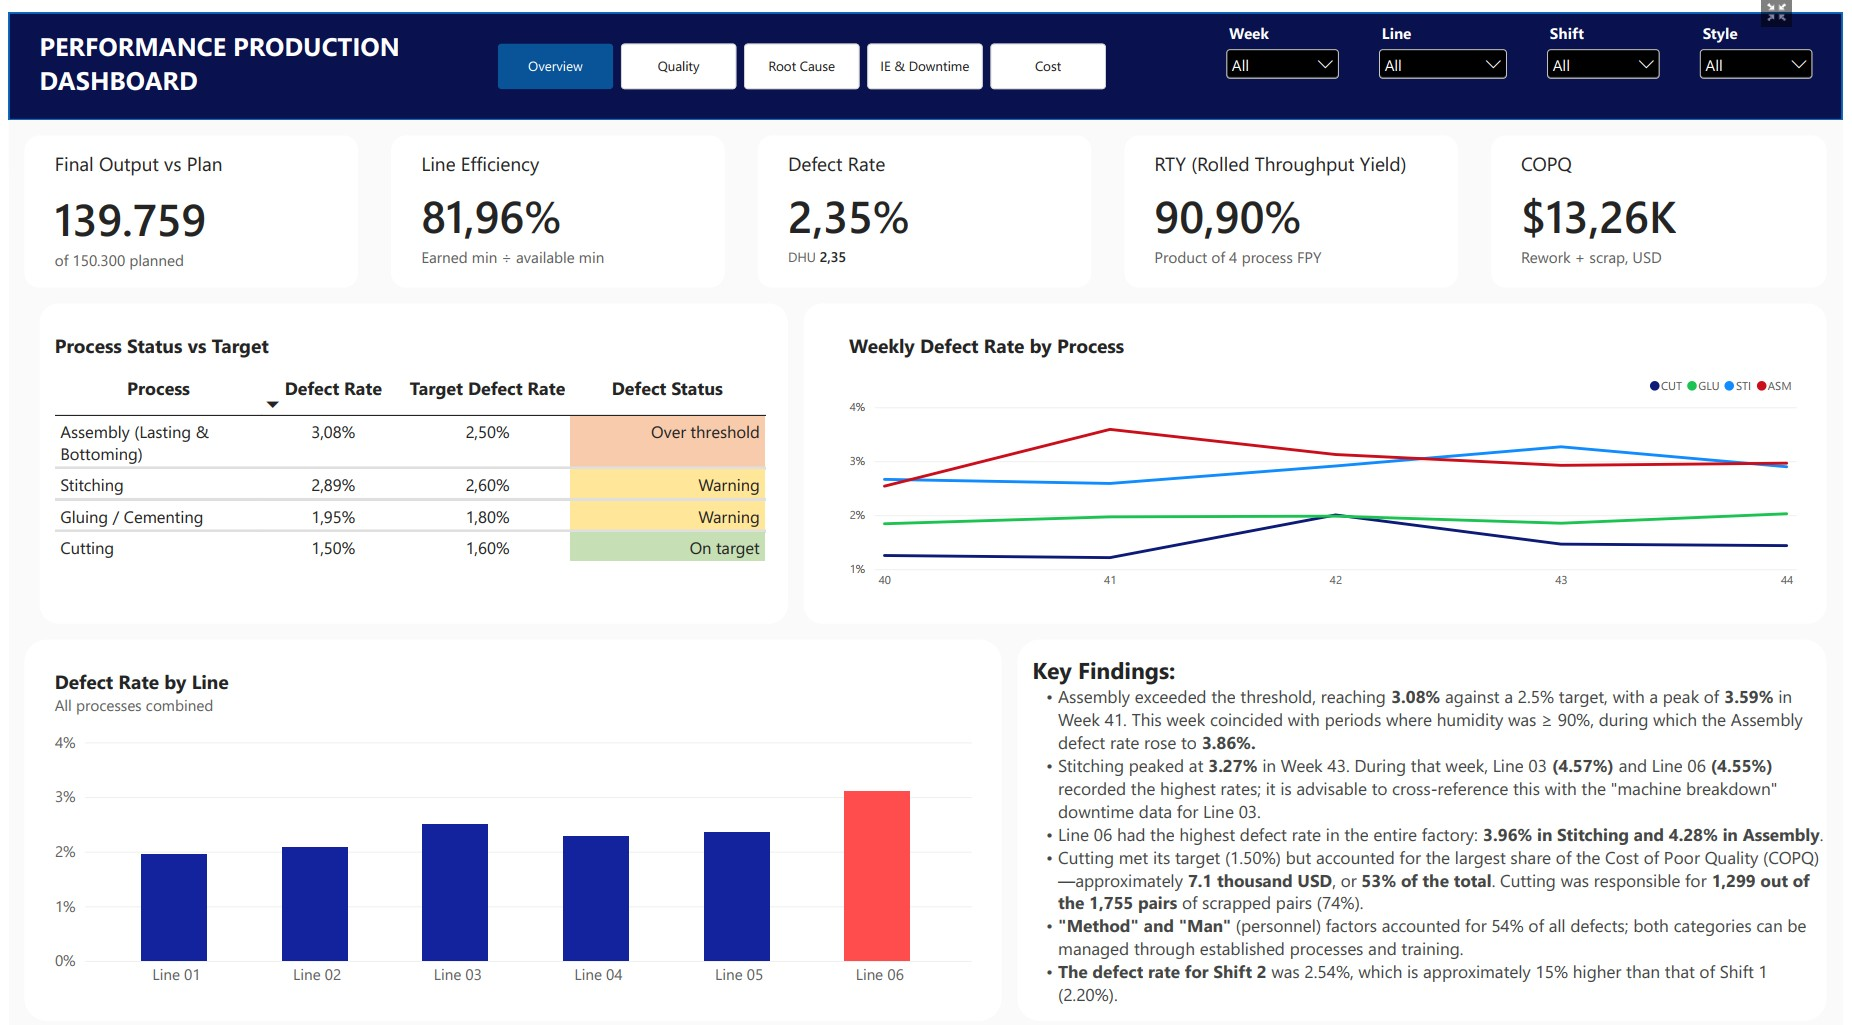

What the dashboard file says about the page in this screenshot:
{"tool":"powerbi","page":{"name":"Overview","canvas":[1920,1080],"ordinal":0},"visuals":[{"type":"shape","box":[0,0,1920,112],"z":0},{"type":"textbox","box":[32,16,480,80],"z":1000},{"type":"shape","box":[16,128,350,160],"z":2000},{"type":"shape","box":[1168,128,350,160],"z":3000},{"type":"shape","box":[400,128,350,160],"z":4000},{"type":"shape","box":[784,128,350,160],"z":5000},{"type":"shape","box":[32,304,784,336],"z":6000},{"type":"shape","box":[832,304,1072,336],"z":7000},{"type":"shape","box":[1056,656,848,400],"z":8000},{"type":"shape","box":[1552,128,352,160],"z":9000},{"type":"cardVisual","title":"Final Output vs Plan","fields":{"Data":["_Measures.Output Production"]},"box":[48,144,304,128],"z":10000},{"type":"cardVisual","title":"Line Efficiency","fields":{"Data":["_Measures.Efficiency"]},"box":[432,144,304,128],"z":11000},{"type":"cardVisual","title":"Defect Rate","fields":{"Data":["_Measures.Defect Rate"]},"box":[816,144,304,160],"z":12000},{"type":"cardVisual","title":"RTY (Rolled Throughput Yield)","fields":{"Data":["_Measures.RTY (Rolled Throughput Yield)"]},"box":[1200,144,304,128],"z":13000},{"type":"cardVisual","title":"COPQ","fields":{"Data":["_Measures.COPQ"]},"box":[1584,144,304,128],"z":14000},{"type":"pageNavigator","box":[512,32,640,48],"z":15000},{"type":"tableEx","title":"Process Status vs Target","fields":{"Values":["Dim_Process.Process_Name_EN","_Measures.Defect Rate","_Measures.Target Defect Rate","_Measures.Defect Status"]},"box":[32,320,784,304],"z":16000},{"type":"lineChart","title":"Weekly Defect Rate by Process","fields":{"Category":["Dim_Calendar.ISO_Week"],"Series":["Dim_Process.Process_ID"],"Y":["_Measures.Defect Rate"]},"box":[864,320,1024,304],"z":17000},{"type":"shape","box":[16,656,1024,400],"z":18000},{"type":"clusteredColumnChart","title":"Defect Rate by Line","fields":{"Category":["Dim_Line.Line_Name"],"Y":["_Measures.Defect Rate"]},"box":[32,672,992,368],"z":19000},{"type":"textbox","box":[1072,672,832,384],"z":20000},{"type":"slicer","fields":{"Values":["Dim_Calendar.ISO_Week"]},"box":[1270.4,9.6,128,80],"z":21000},{"type":"slicer","fields":{"Values":["Dim_Line.Line_Name"]},"box":[1430.4,9.6,144,80],"z":22000},{"type":"slicer","fields":{"Values":["Fact_Production.Shift"]},"box":[1606.4,9.6,128,80],"z":23000},{"type":"slicer","fields":{"Values":["Fact_Production.Style_ID"]},"box":[1766.4,9.6,128,80],"z":24000}]}

Visuals, with their boxes in screenshot pixels (x1, y1, x2, y2), scaled from the page's 1920x1080 canvas onto the 1852x1025 screenshot:
shape: box=[0, 0, 1851, 106]
textbox: box=[31, 15, 494, 91]
shape: box=[15, 121, 353, 273]
shape: box=[1127, 121, 1464, 273]
shape: box=[386, 121, 723, 273]
shape: box=[756, 121, 1094, 273]
shape: box=[31, 289, 787, 607]
shape: box=[803, 289, 1837, 607]
shape: box=[1019, 623, 1837, 1002]
shape: box=[1497, 121, 1837, 273]
"Final Output vs Plan" cardVisual: box=[46, 137, 340, 258]
"Line Efficiency" cardVisual: box=[417, 137, 710, 258]
"Defect Rate" cardVisual: box=[787, 137, 1080, 289]
"RTY (Rolled Throughput Yield)" cardVisual: box=[1158, 137, 1451, 258]
"COPQ" cardVisual: box=[1528, 137, 1821, 258]
pageNavigator: box=[494, 30, 1111, 76]
"Process Status vs Target" tableEx: box=[31, 304, 787, 592]
"Weekly Defect Rate by Process" lineChart: box=[833, 304, 1821, 592]
shape: box=[15, 623, 1003, 1002]
"Defect Rate by Line" clusteredColumnChart: box=[31, 638, 988, 987]
textbox: box=[1034, 638, 1837, 1002]
slicer - Dim_Calendar.ISO_Week: box=[1225, 9, 1349, 85]
slicer - Dim_Line.Line_Name: box=[1380, 9, 1519, 85]
slicer - Fact_Production.Shift: box=[1550, 9, 1673, 85]
slicer - Fact_Production.Style_ID: box=[1704, 9, 1827, 85]
